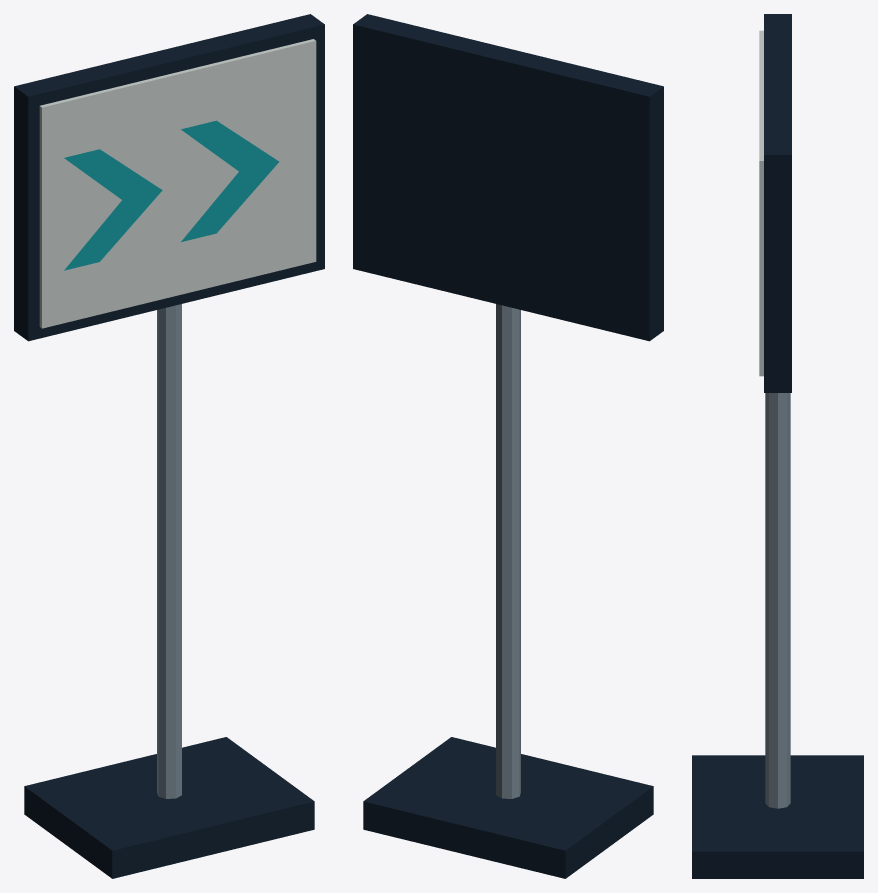
The model's file is pit_lane_arrows.glb.
The picture shows the model from 3 angles, left to right: view 1: azimuth 30°, elevation 25°; view 2: azimuth 150°, elevation 25°; view 3: azimuth 270°, elevation 25°; orthographic projection. The views are drawn at different scales.
Parts seen in each view (by area): view 1: Sign; view 2: Sign; view 3: Sign.
Boxes of the visible parts, x1,y1,x2,y2 form: Sign: [14, 14, 324, 878]; Sign: [353, 14, 663, 878]; Sign: [692, 14, 863, 878].
Bounding box in the file's own units: 0.66 × 1.63 × 0.34.
